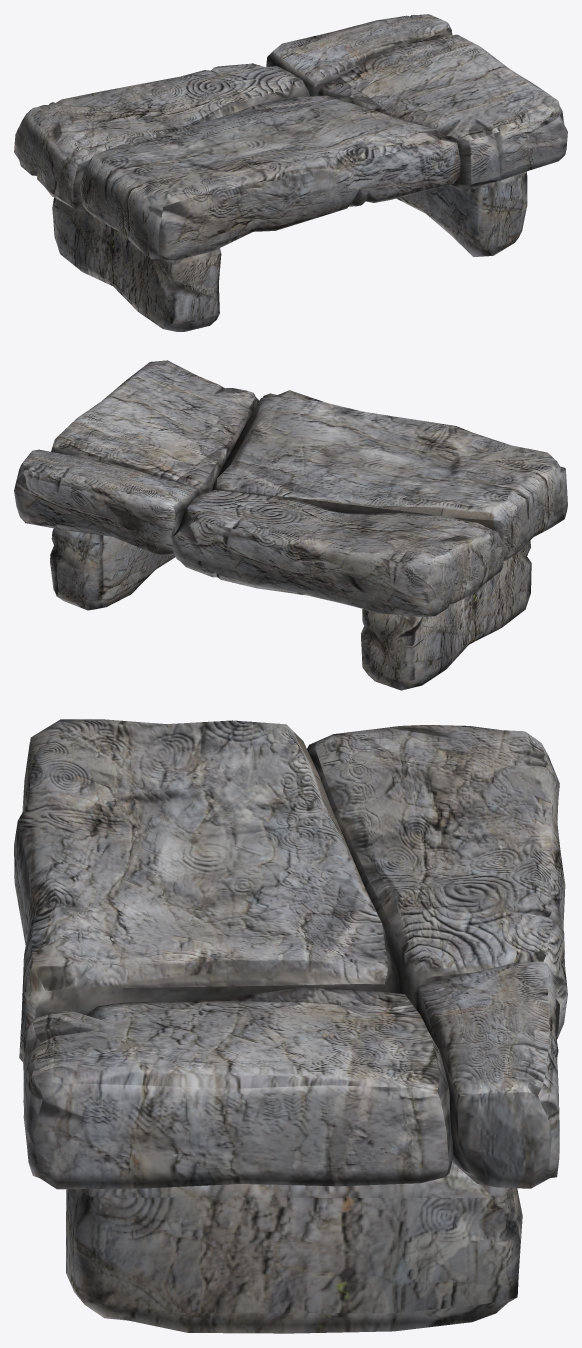
File: StoneTable_MESH.fbx
3 views of the same model, one above another, from view 1: azimuth 30°, elevation 25°; view 2: azimuth 150°, elevation 25°; view 3: azimuth 270°, elevation 25° (orthographic). The views are drawn at different scales.
Visible parts, largest first — view 1: StoneTable_Parts.001, StoneTable_Parts.002, StoneTable_Parts_006, StoneTable_Parts.005, StoneTable_Parts.003, StoneTable_Parts.004; view 2: StoneTable_Parts.001, StoneTable_Parts_006, StoneTable_Parts.002, StoneTable_Parts.003, StoneTable_Parts.005, StoneTable_Parts.004; view 3: StoneTable_Parts.001, StoneTable_Parts.002, StoneTable_Parts.004, StoneTable_Parts_006, StoneTable_Parts.003.
Boxes of the visible parts, box(x1,y1,x2,y2) form: StoneTable_Parts.001: box(80, 95, 460, 260); StoneTable_Parts.002: box(317, 34, 567, 190); StoneTable_Parts_006: box(14, 63, 309, 210); StoneTable_Parts.005: box(52, 197, 221, 331); StoneTable_Parts.003: box(266, 14, 452, 95); StoneTable_Parts.004: box(396, 171, 527, 256); StoneTable_Parts.001: box(212, 390, 567, 560); StoneTable_Parts_006: box(172, 490, 504, 616); StoneTable_Parts.002: box(51, 360, 259, 492); StoneTable_Parts.003: box(14, 449, 200, 555); StoneTable_Parts.005: box(361, 540, 531, 690); StoneTable_Parts.004: box(50, 528, 175, 610); StoneTable_Parts.001: box(14, 719, 400, 1061); StoneTable_Parts.002: box(23, 987, 453, 1189); StoneTable_Parts.004: box(66, 1162, 522, 1333); StoneTable_Parts_006: box(307, 725, 567, 1039); StoneTable_Parts.003: box(412, 961, 559, 1188).
Size of what is drawn, in the model's own units: 411 by 144 by 252.
